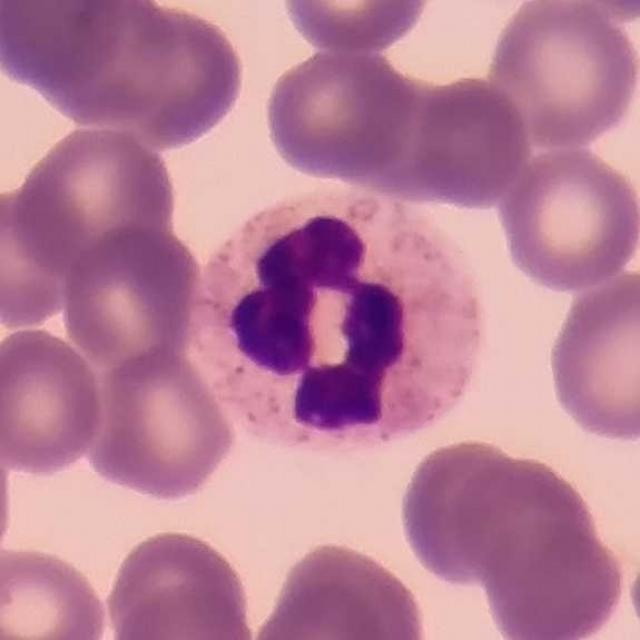Neutrophil: (186, 186, 501, 466)
RBC: (26, 0, 249, 141), (8, 119, 180, 279), (82, 345, 240, 502), (445, 446, 606, 596), (483, 0, 640, 150), (56, 220, 204, 374), (494, 142, 640, 295), (260, 44, 418, 184), (395, 434, 533, 589), (476, 514, 629, 640), (254, 536, 432, 640), (101, 523, 257, 640), (403, 72, 534, 210), (542, 266, 640, 447), (0, 322, 108, 478), (0, 180, 88, 331), (1, 0, 130, 92), (0, 542, 114, 640), (276, 0, 436, 56), (108, 583, 264, 640), (245, 582, 395, 639), (0, 425, 17, 581), (532, 0, 640, 23)
